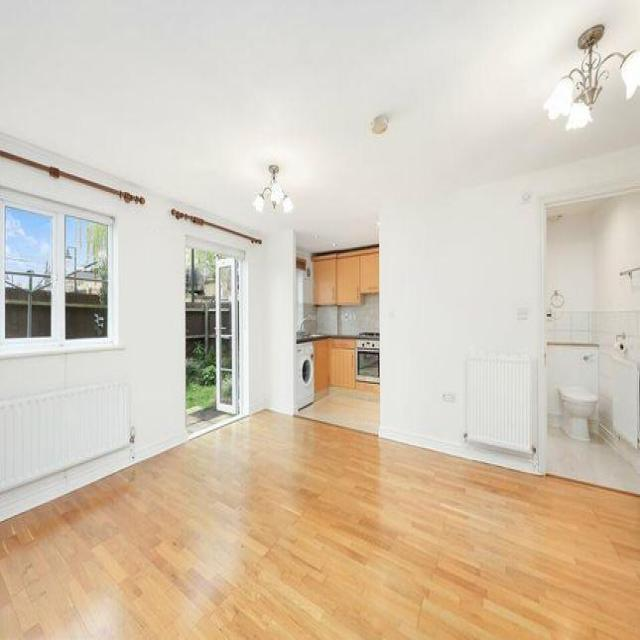Wall: (0, 1, 640, 248), (0, 412, 639, 638), (380, 146, 639, 472), (0, 210, 186, 520), (547, 191, 640, 311), (248, 229, 295, 413), (547, 428, 640, 494), (547, 309, 640, 361), (297, 386, 380, 434), (316, 294, 379, 335)
